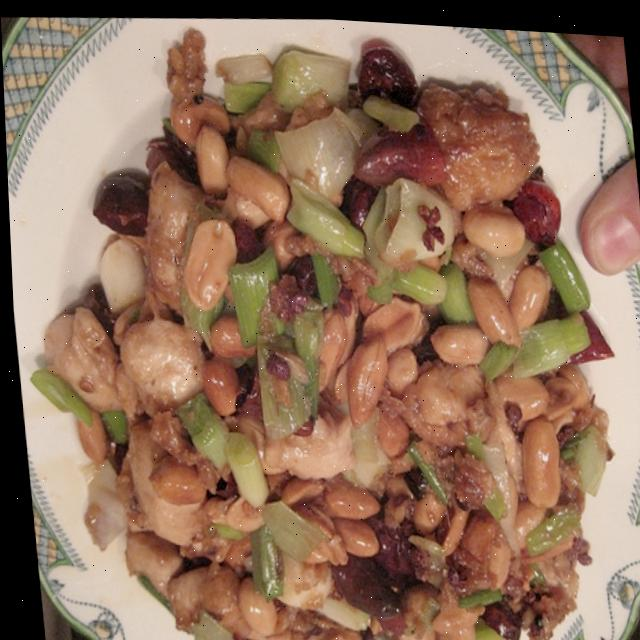鸡肉料理 含炸鸡: (6, 1, 640, 640)
